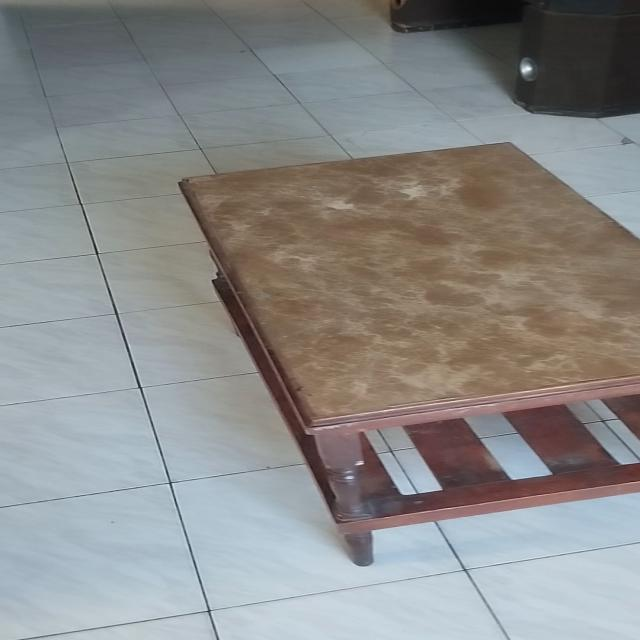table: (168, 137, 640, 568)
